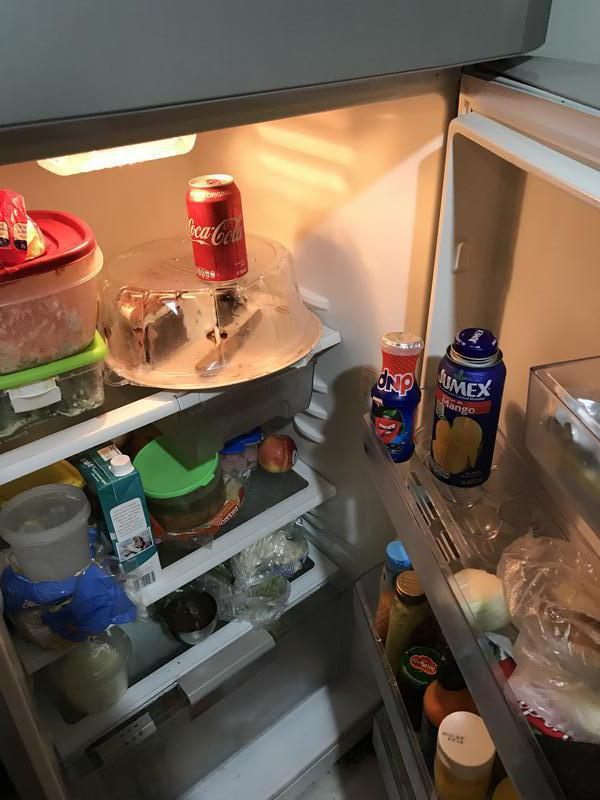coca_cola: (184, 175, 254, 284)
danup: (367, 328, 424, 468)
jugo_jumex: (431, 324, 510, 489)
